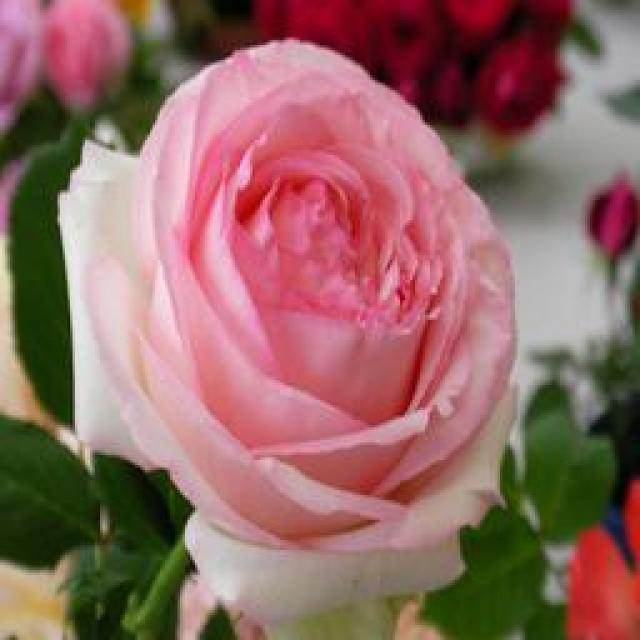rose: (38, 19, 594, 616)
